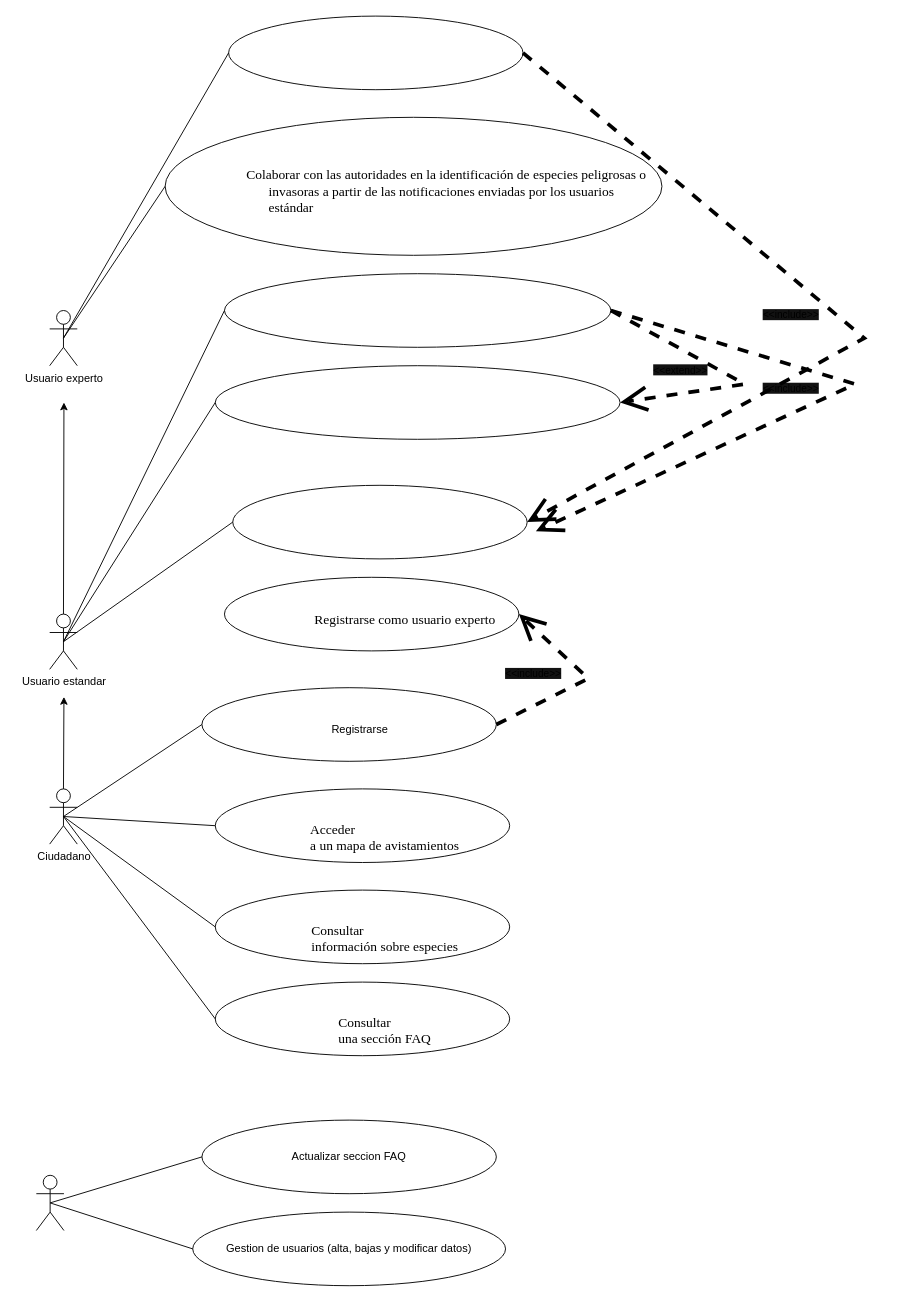
This 903x1302 diagram has some shape labels left out. The centre of each missing label's shape, as x and y in pixels:
"Administrador" belongs at (x=49, y=1202).
"Fotografiar fauna o flora y recibir una identificación automática mediante IA" belongs at (x=417, y=310).
"notificar la presencia de especies peligrosas o invasoras a las autoridades" belongs at (x=379, y=521).
"registrar la localización de la especie detectada." belongs at (x=417, y=402).
"Validar avistamientos de especies." belongs at (x=375, y=52).
